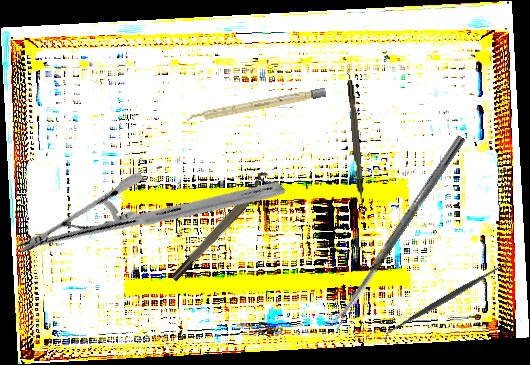Fixation Ring: (164, 169, 277, 284)
Hook Surgical: (347, 79, 366, 216)
Needle Holder: (14, 85, 287, 350)
Scalpel Handle: (185, 87, 327, 124)
Spatula Surgical: (378, 255, 514, 343)
Surgical Spoon: (329, 134, 466, 330)
